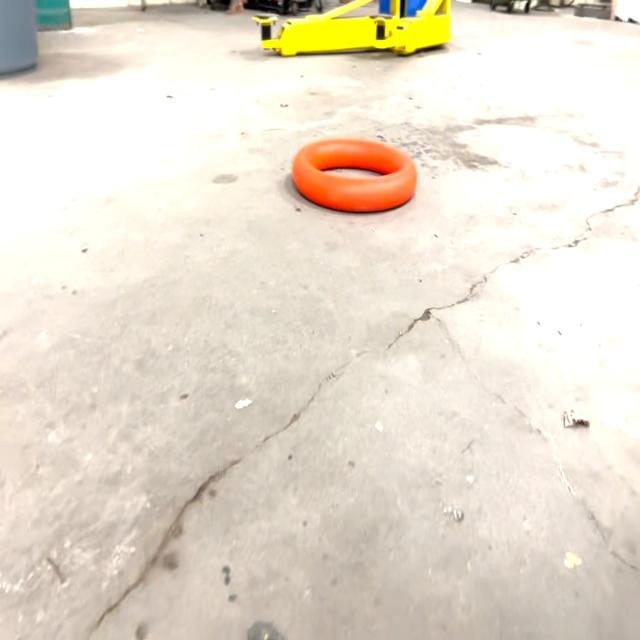note: (291, 137, 419, 217)
